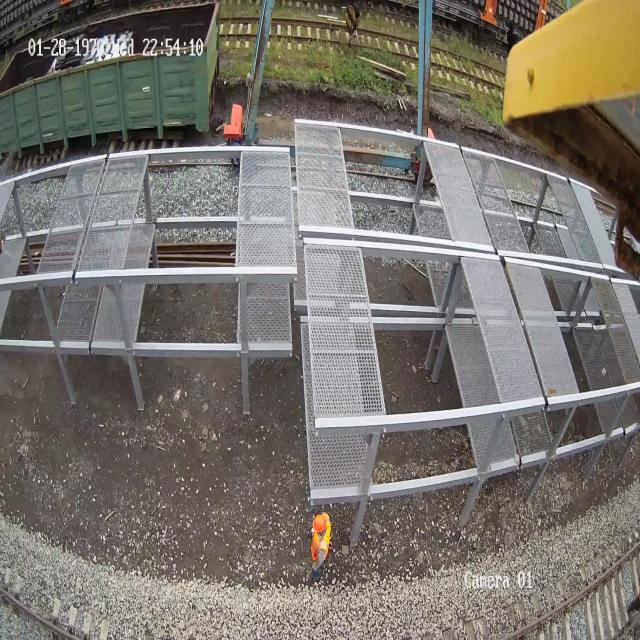Helmet: (312, 514, 326, 533)
Person: (310, 511, 331, 581)
